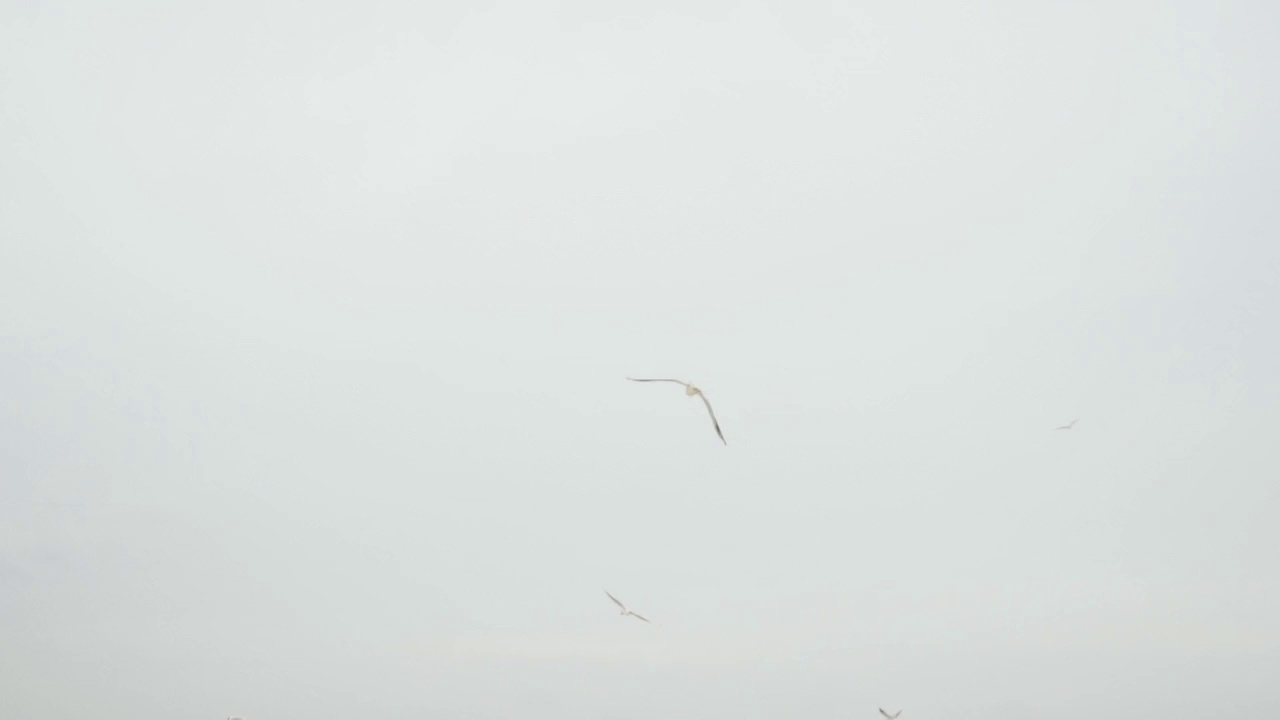bird: (630, 374, 725, 444), (603, 584, 651, 621), (879, 703, 906, 718)
